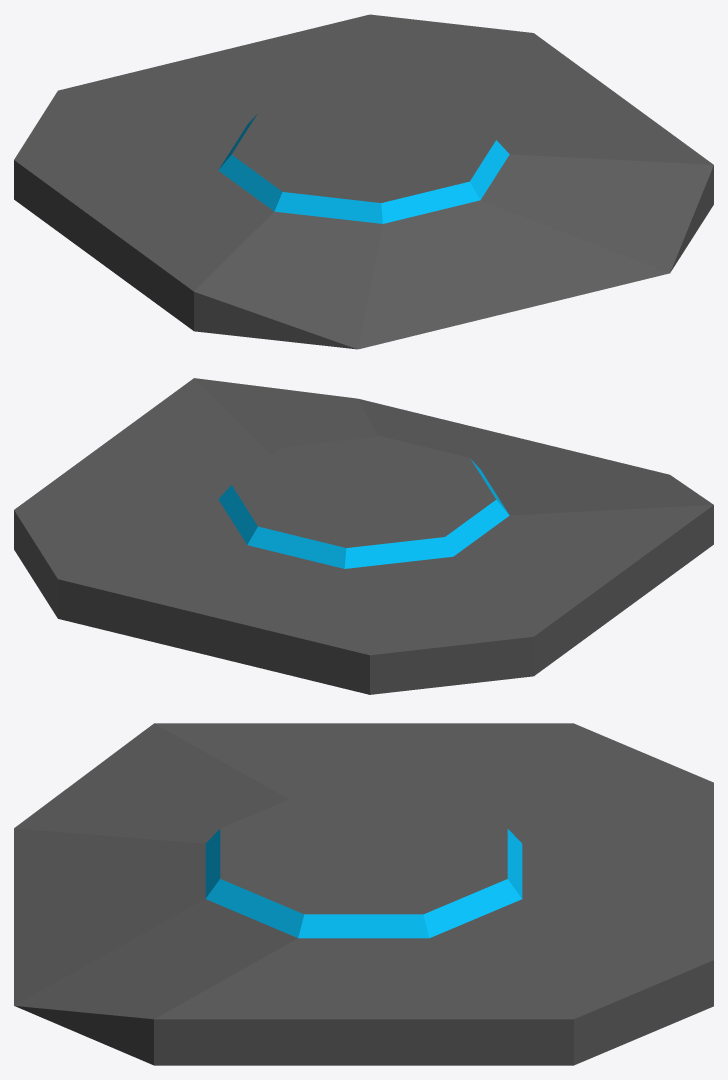
File: btn_base_shape.fbx
3 views of the same model, one above another, from view 1: azimuth 30°, elevation 25°; view 2: azimuth 150°, elevation 25°; view 3: azimuth 270°, elevation 25° (orthographic). The views are drawn at different scales.
Visible parts, largest first — view 1: polySurface19; view 2: polySurface19; view 3: polySurface19.
Part boxes in pixels (x1,y1,x2,y2): polySurface19: (14, 14, 713, 349); polySurface19: (14, 378, 713, 694); polySurface19: (14, 723, 713, 1065).
Size of the model in its own units: 0.236 by 0.0238 by 0.236.
